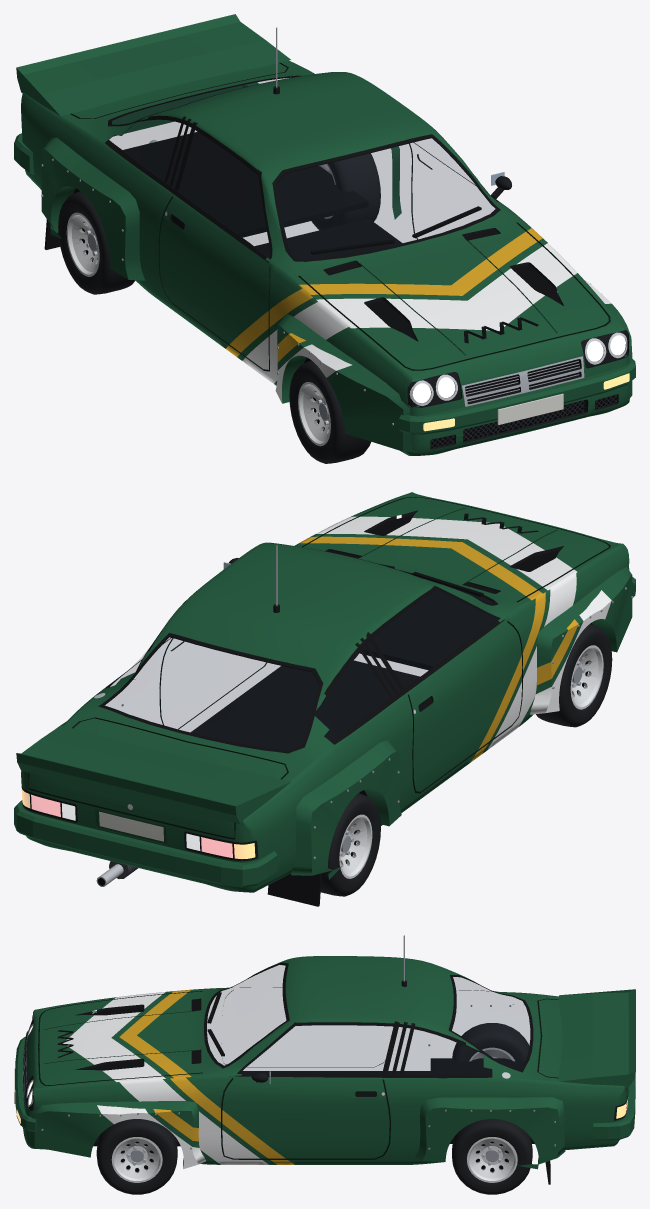
File: car_rally_green.glb
3 renders of one model, top to bottom at view 1: azimuth 30°, elevation 25°; view 2: azimuth 150°, elevation 25°; view 3: azimuth 270°, elevation 25°, orthographic. The views are drawn at different scales.
Parts seen in each view (by area): view 1: body, wheel_fl, wheel_rl, wheel_rr; view 2: body, wheel_fl, wheel_rl; view 3: body, wheel_fr, wheel_rr, wheel_rl.
Boxes of the visible parts, <box> form: body: <box>14,14,635,455</box>; wheel_fl: <box>289,360,370,463</box>; wheel_rl: <box>58,191,135,294</box>; wheel_rr: <box>311,153,380,230</box>; body: <box>14,492,635,906</box>; wheel_fl: <box>536,624,612,727</box>; wheel_rl: <box>320,793,380,896</box>; body: <box>14,935,635,1184</box>; wheel_fr: <box>96,1119,177,1194</box>; wheel_rr: <box>452,1119,532,1194</box>; wheel_rl: <box>452,1023,529,1061</box>.
Size of the model in its own units: 1.77 by 1.65 by 4.42.
